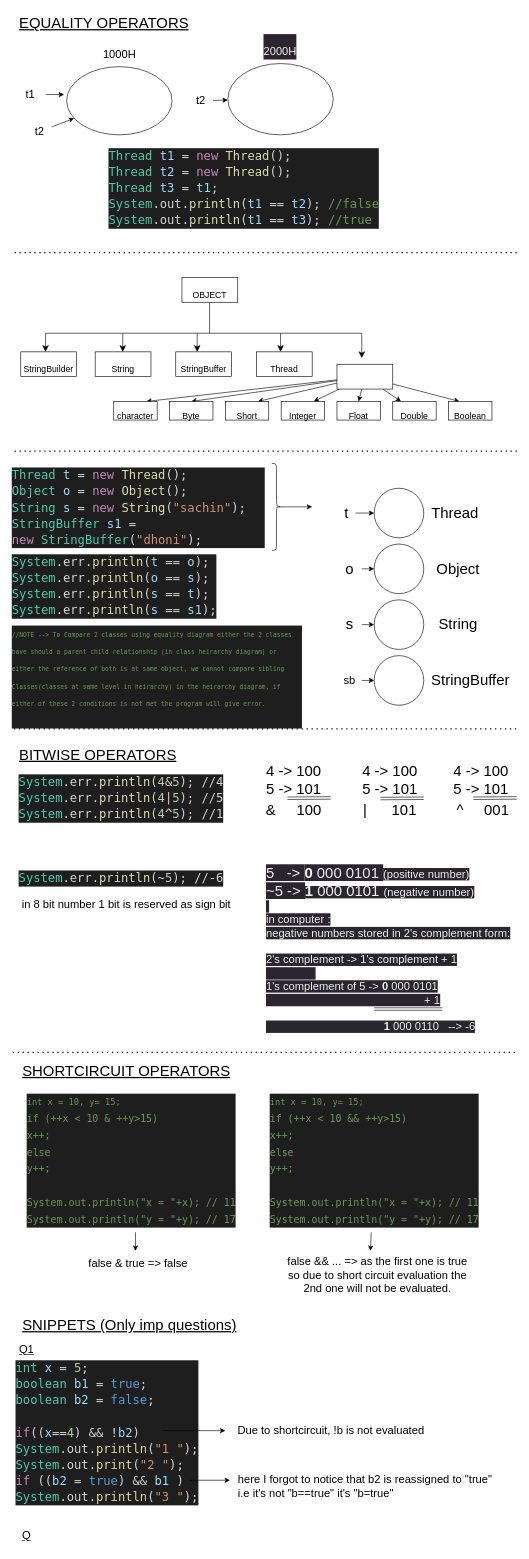
This 529x1559 diagram has some shape labels left out. The shapes that lost their labels are listed below. From the top down, each one's centre as x and y in pixels, then its label:
At point 364,376: "Number".
At point 399,624: "sachin".
At point 399,680: "dhoni".
